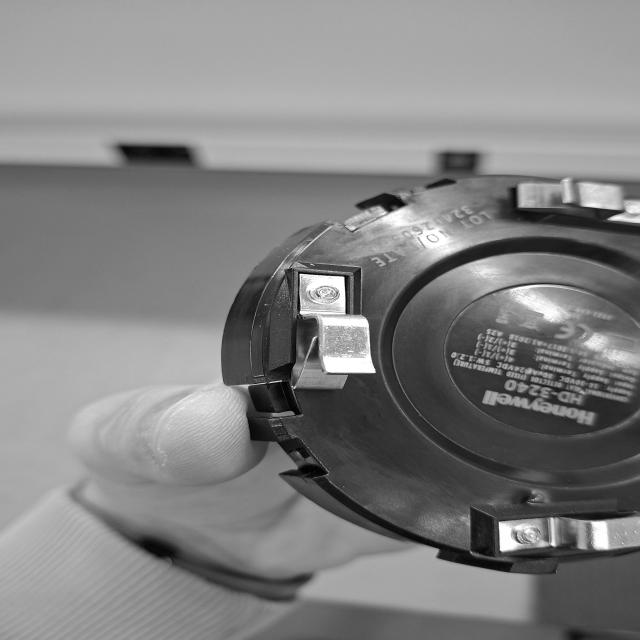yayli: (277, 260, 397, 406)
